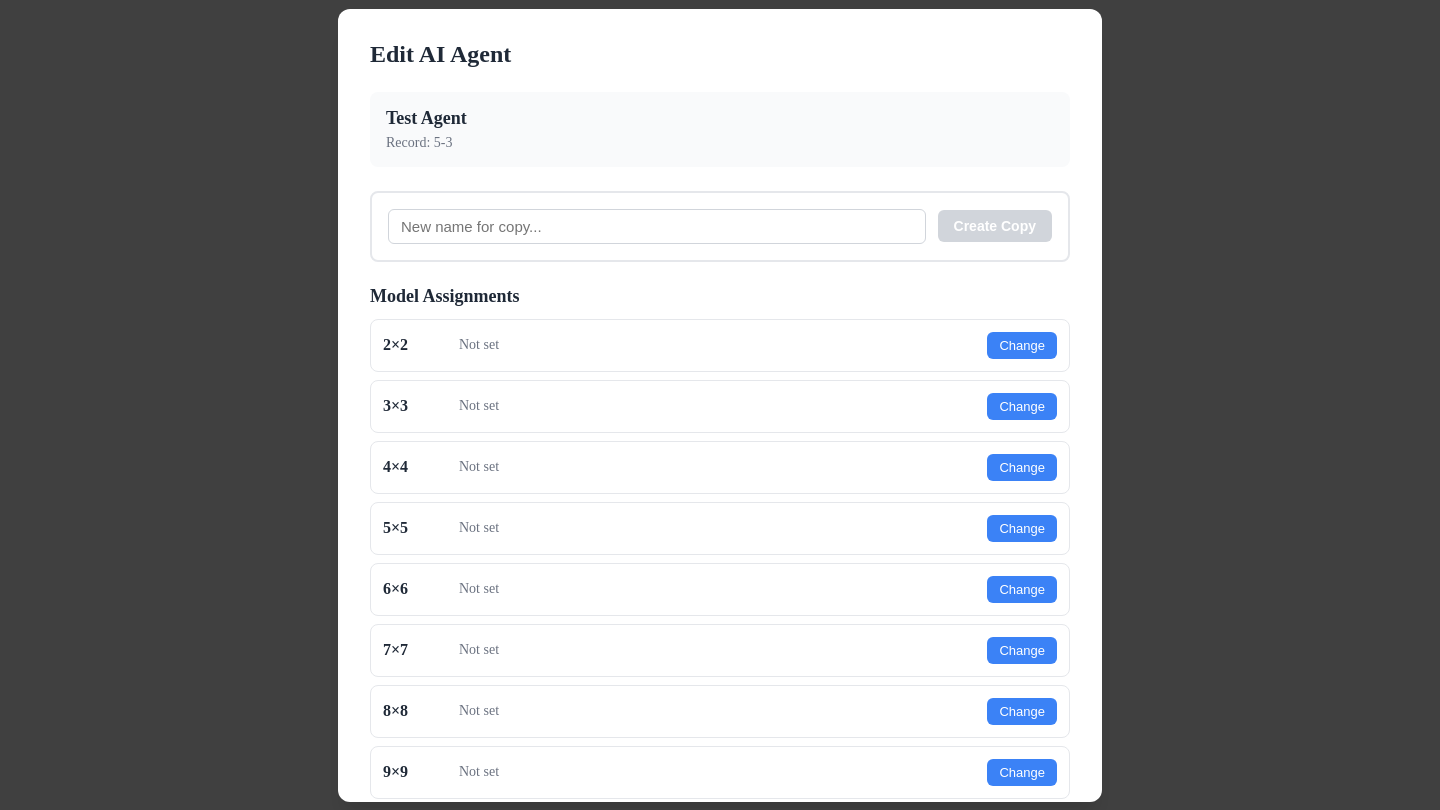
Scenario: EditAiAgentModal › should show scripted agents for size 2
# Click Change for 2×2 (index 0)
Click the button "Change" in the row of "2×2" at x=1022, y=345, box [988, 332, 1057, 358]
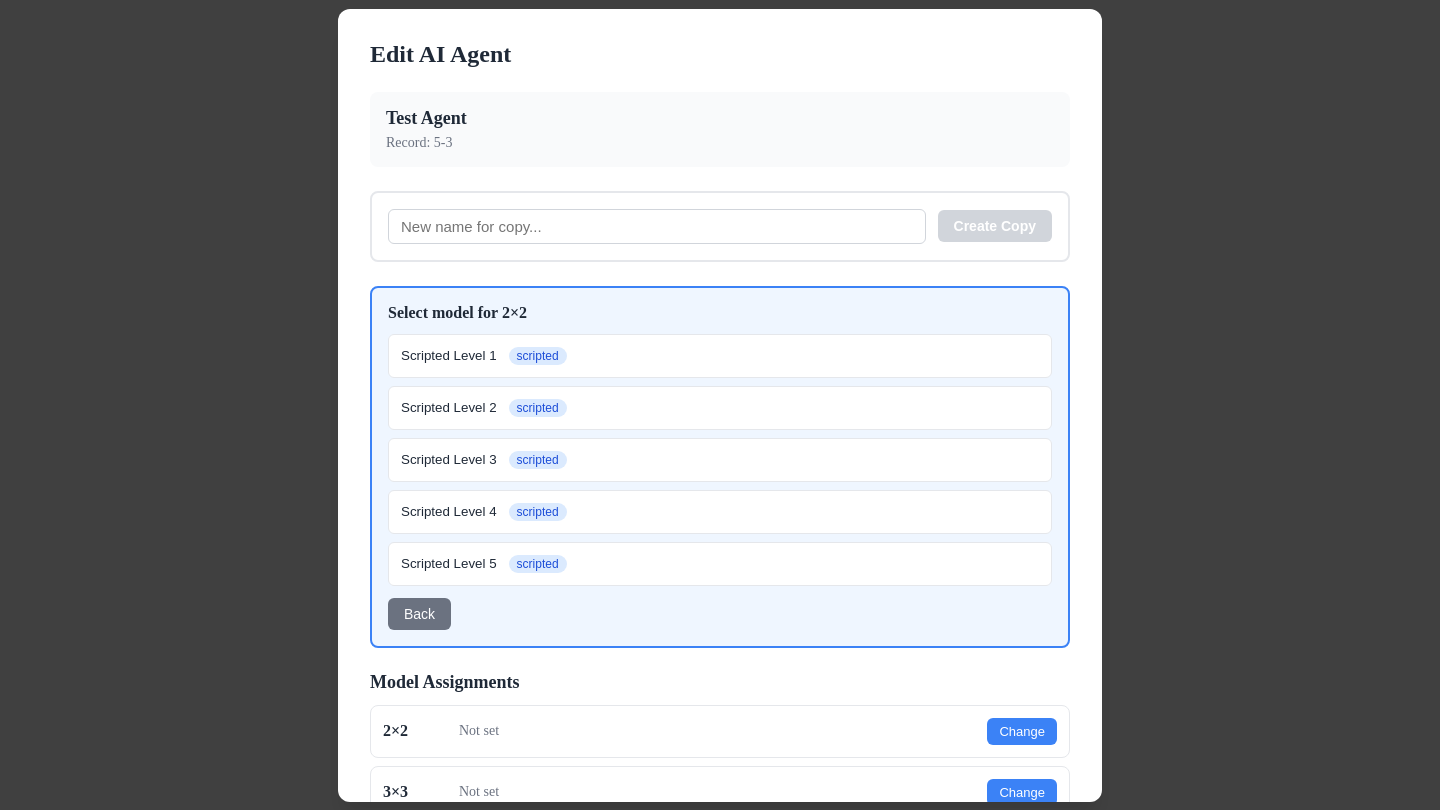
Expected: the text "Scripted Level 1" is shown, [401, 348, 497, 363]
Expected: the text "Scripted Level 2" is shown, [401, 400, 497, 415]
Expected: the text "Scripted Level 3" is shown, [401, 452, 497, 467]
